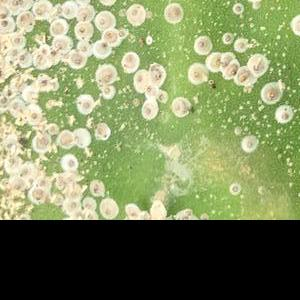Femea: (260, 85, 282, 102), (253, 54, 267, 75), (126, 2, 142, 20), (187, 64, 203, 80), (96, 13, 111, 30), (95, 40, 108, 59), (100, 199, 112, 219), (206, 53, 220, 70), (194, 35, 206, 53), (102, 28, 117, 42), (73, 24, 89, 37), (244, 69, 257, 85), (133, 70, 145, 87), (75, 8, 88, 23), (236, 37, 249, 52), (69, 53, 82, 68), (90, 180, 102, 196), (230, 60, 242, 76), (49, 22, 65, 34), (276, 108, 289, 122), (26, 110, 41, 122), (60, 2, 70, 19), (140, 104, 153, 117), (78, 98, 90, 112), (32, 189, 44, 203), (99, 86, 112, 98), (37, 77, 50, 89), (32, 5, 45, 17), (144, 84, 155, 97), (126, 205, 137, 218), (243, 136, 253, 150), (65, 154, 75, 168), (67, 198, 79, 209), (81, 198, 92, 210), (79, 41, 89, 54), (0, 19, 11, 30), (232, 2, 243, 13), (38, 44, 49, 55), (11, 35, 22, 45), (229, 183, 239, 194), (222, 32, 232, 43), (10, 182, 20, 192), (15, 54, 27, 62), (0, 8, 8, 19), (8, 48, 20, 55), (117, 30, 127, 37)
Linfa: (277, 142, 294, 170), (268, 62, 287, 77), (243, 95, 257, 111), (275, 21, 285, 40), (259, 48, 268, 69), (264, 128, 276, 142), (246, 121, 258, 134), (271, 126, 284, 136), (258, 104, 266, 111)
Macho: (97, 97, 103, 111), (257, 56, 262, 70), (46, 142, 52, 153), (82, 149, 88, 159), (32, 38, 37, 50), (50, 144, 55, 155), (27, 148, 32, 159), (28, 129, 33, 139), (48, 14, 60, 18), (41, 34, 44, 46)
